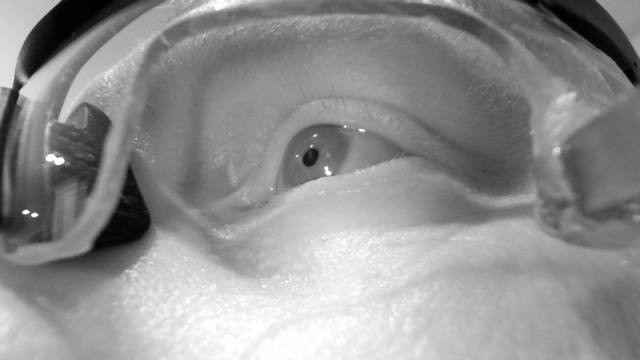pupil: (302, 147, 319, 167)
